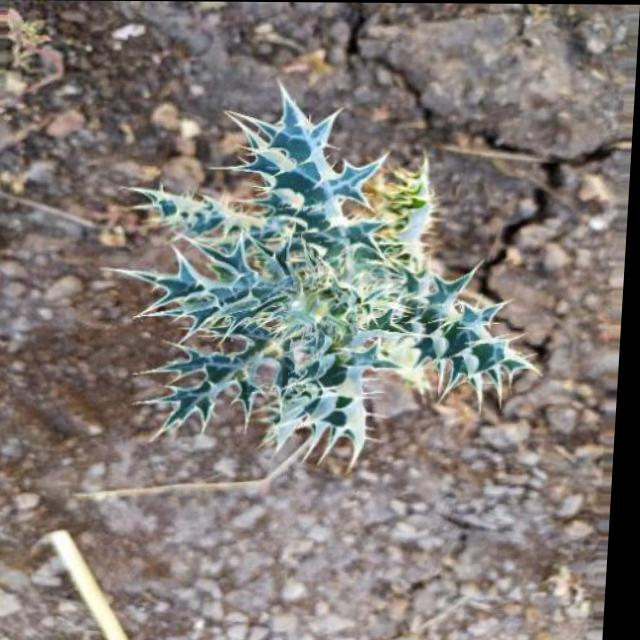crop: (104, 77, 556, 481)
